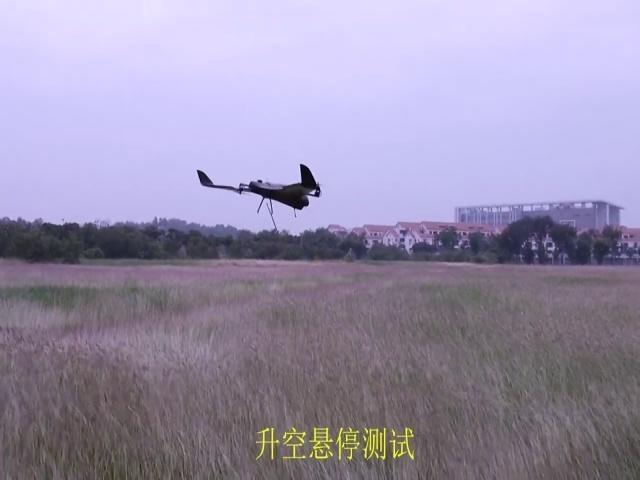Airplane: (196, 164, 322, 227)
